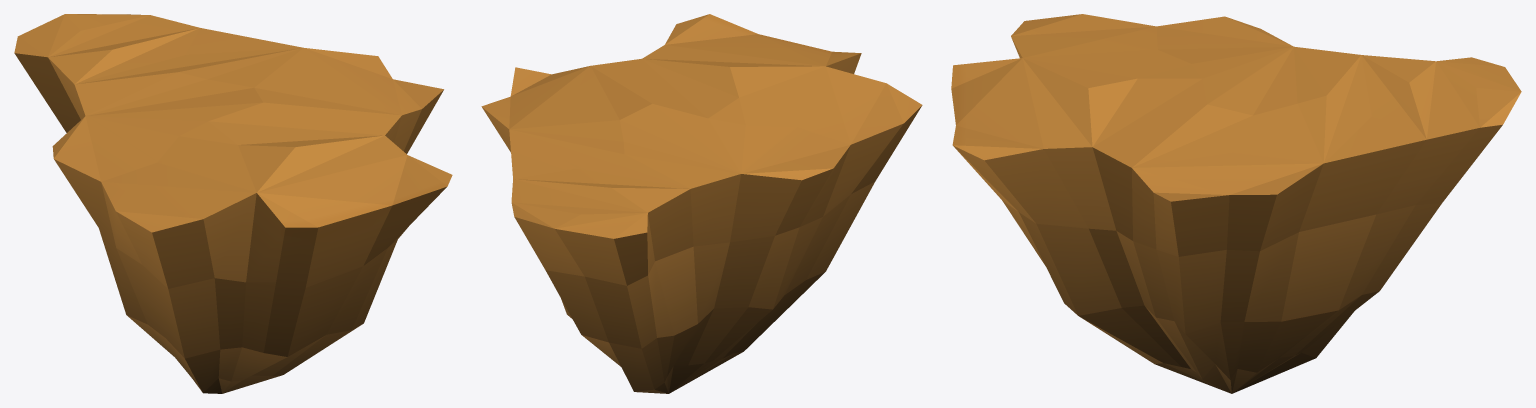
The model's file is Island2.glb.
The picture shows the model from 3 angles, left to right: view 1: azimuth 30°, elevation 25°; view 2: azimuth 150°, elevation 25°; view 3: azimuth 270°, elevation 25°; orthographic projection. The views are drawn at different scales.
Visible parts, largest first — view 1: Vert.002; view 2: Vert.002; view 3: Vert.002.
Boxes of the visible parts, x1,y1,x2,y2 form: Vert.002: (14, 14, 452, 393); Vert.002: (481, 14, 922, 393); Vert.002: (951, 14, 1521, 393).
Size of the model in its own units: 7.76 by 5.92 by 9.94.
1 material, 1 textured.
